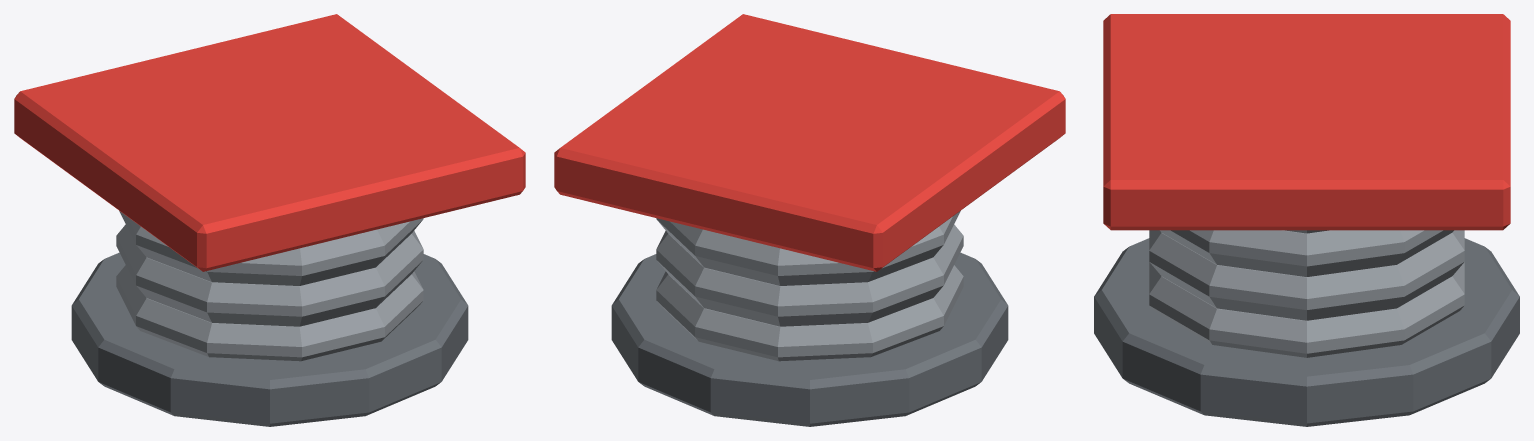
File: spring_launcher.glb
3 renders of one model, left to right at view 1: azimuth 30°, elevation 25°; view 2: azimuth 150°, elevation 25°; view 3: azimuth 270°, elevation 25°, orthographic. The views are drawn at different scales.
Parts seen in each view (by area): view 1: spring_launcher; view 2: spring_launcher; view 3: spring_launcher.
Boxes of the visible parts, <box> form: spring_launcher: <box>14,14,525,426</box>; spring_launcher: <box>554,14,1065,426</box>; spring_launcher: <box>1094,14,1519,426</box>.
Bounding box in the file's own units: 0.23 × 0.145 × 0.23.
